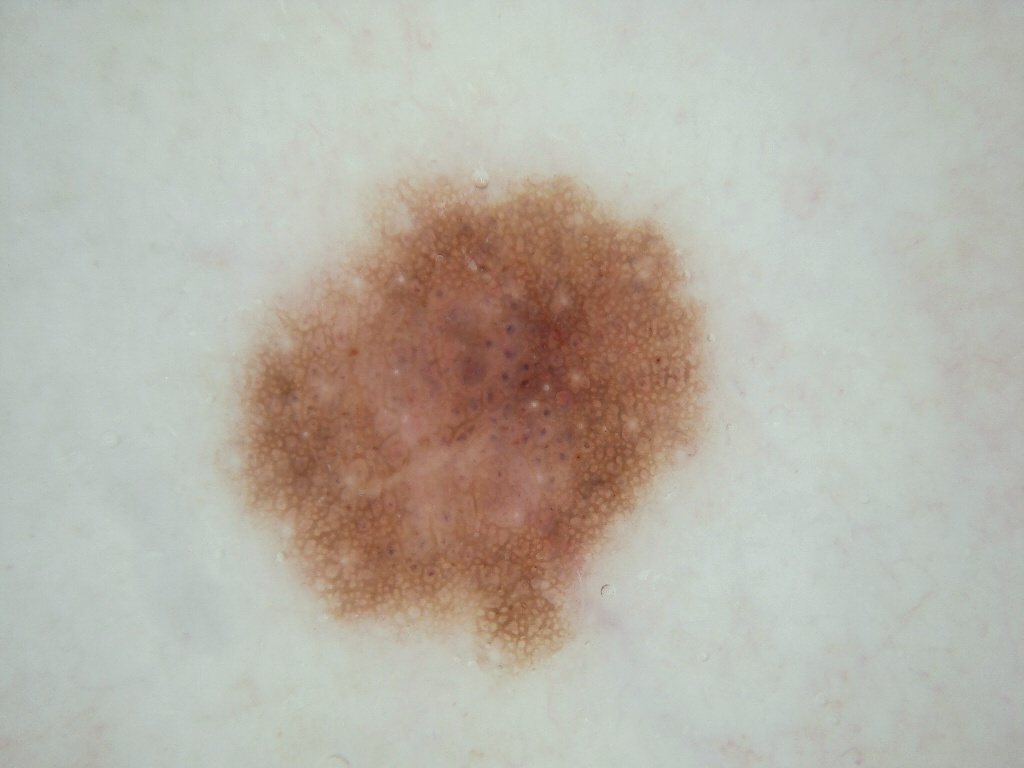Detected Lesion: (211, 170, 714, 678)
